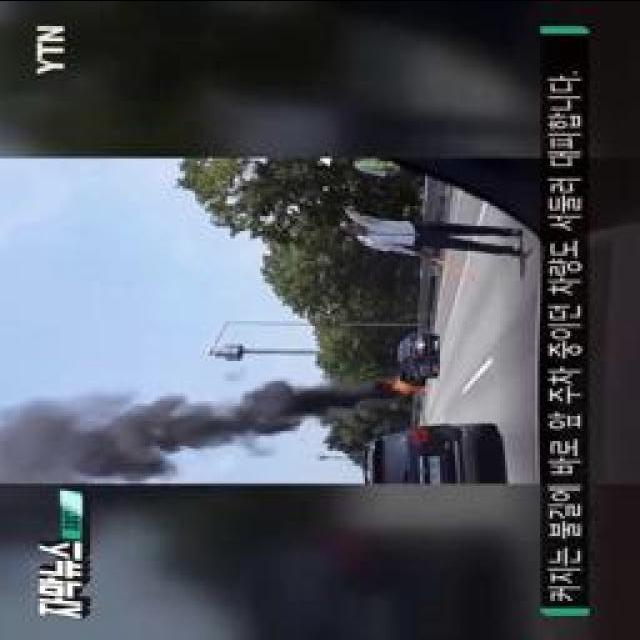Fire: (392, 380, 416, 393)
